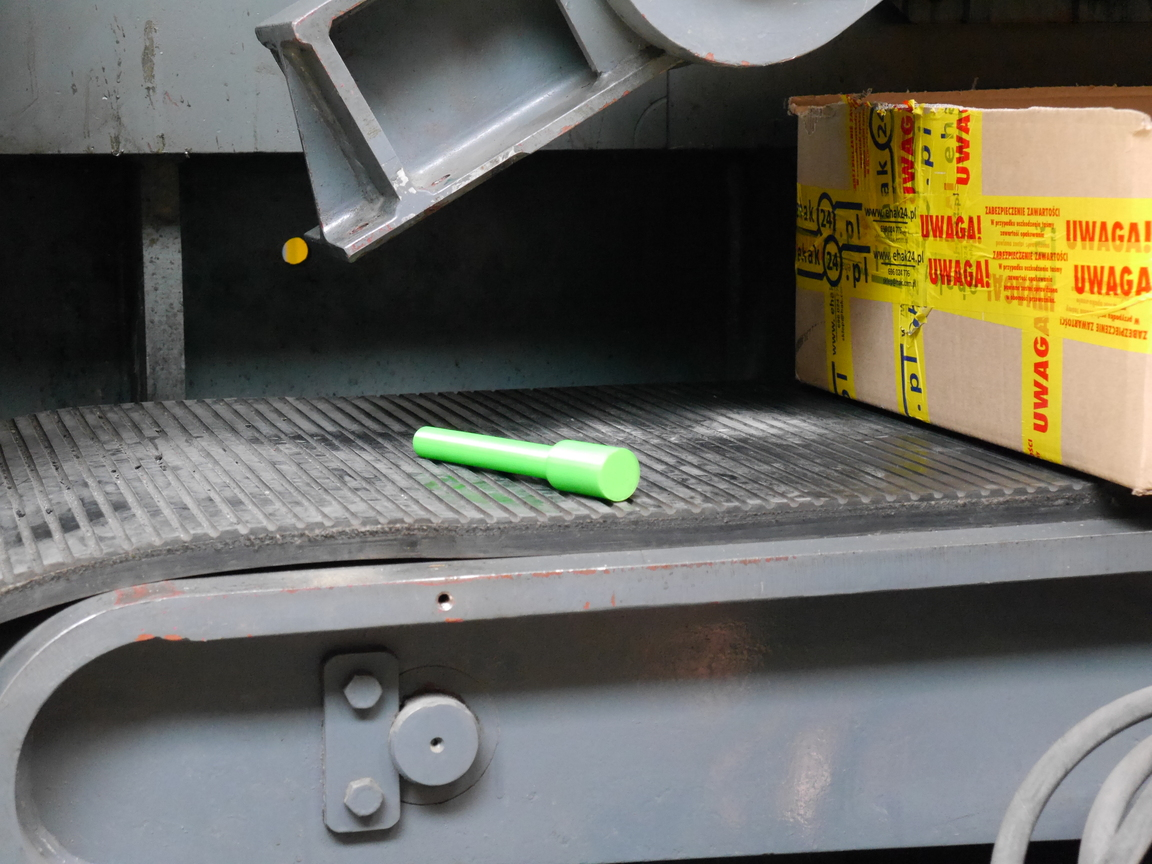cargo_g: (409, 422, 641, 505)
